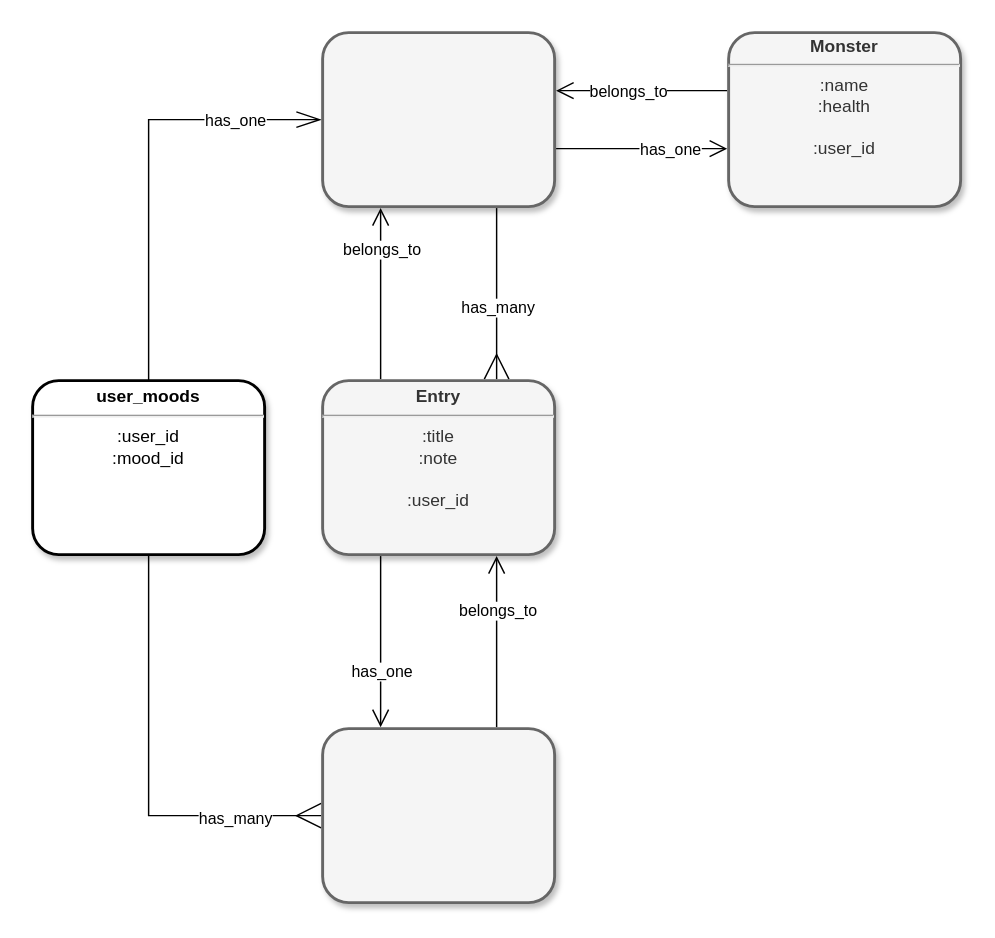
This 995x938 diagram has some shape labels left out. Each missing label, with the centre of its shape:
"Mood :name :effect :amount :entry_id" goes at point 439,817.
"User :first_name :last_name :email :password_digest" goes at point 439,121.
